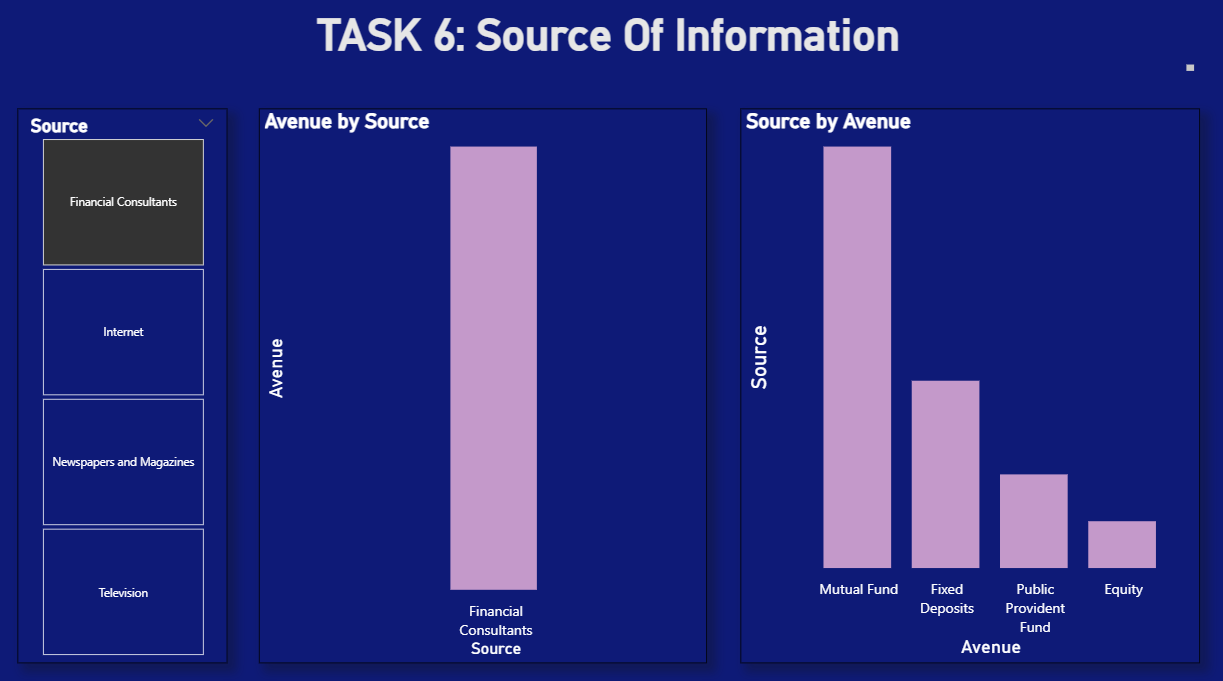

What the dashboard file says about the page in this screenshot:
{"tool":"powerbi","page":{"name":"Task 6","canvas":[1280,720],"ordinal":5},"visuals":[{"type":"textbox","title":"TASK 6: Source Of Information","box":[23.5,16.8,1231.3,68.9],"z":0},{"type":"clusteredColumnChart","fields":{"Category":["Data_set 2.Avenue"],"Y":["CountNonNull(Data_set 2.Source)"]},"box":[776.1,120.9,478.7,577.8],"z":1000},{"type":"clusteredColumnChart","fields":{"Category":["Data_set 2.Source"],"Y":["CountNonNull(Data_set 2.Avenue)"]},"box":[275.5,120.9,467,577.8],"z":2000},{"type":"slicer","fields":{"Values":["Data_set 2.Source"]},"box":[23.5,120.9,218.4,577.8],"z":3000}]}

Visuals, with their boxes in screenshot pixels (x1, y1, x2, y2), scaled from the page's 1280x720 canvas onto the 1223x681 screenshot:
"TASK 6: Source Of Information" textbox: bbox=[22, 16, 1199, 81]
clusteredColumnChart - Data_set 2.Avenue x CountNonNull(Data_set 2.Source): bbox=[742, 114, 1199, 661]
clusteredColumnChart - Data_set 2.Source x CountNonNull(Data_set 2.Avenue): bbox=[263, 114, 709, 661]
slicer - Data_set 2.Source: bbox=[22, 114, 231, 661]
